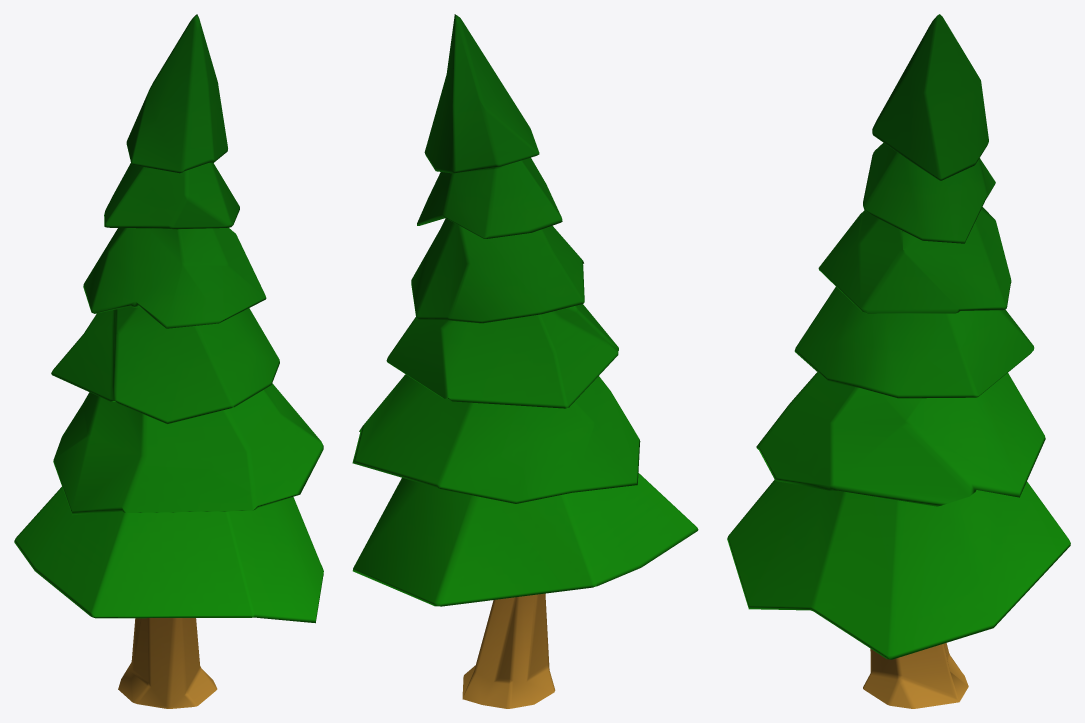
The model's file is SM_Tree01.fbx.
The picture shows the model from 3 angles, left to right: view 1: azimuth 30°, elevation 25°; view 2: azimuth 150°, elevation 25°; view 3: azimuth 270°, elevation 25°; orthographic projection. The views are drawn at different scales.
Visible parts, largest first — view 1: Tree01; view 2: Tree01; view 3: Tree01.
Part boxes in pixels (x1=…): Tree01: x1=14, y1=14, x2=323, y2=708; Tree01: x1=352, y1=14, x2=698, y2=708; Tree01: x1=727, y1=14, x2=1070, y2=708.
Size of the model in its own units: 300 by 692 by 310.
